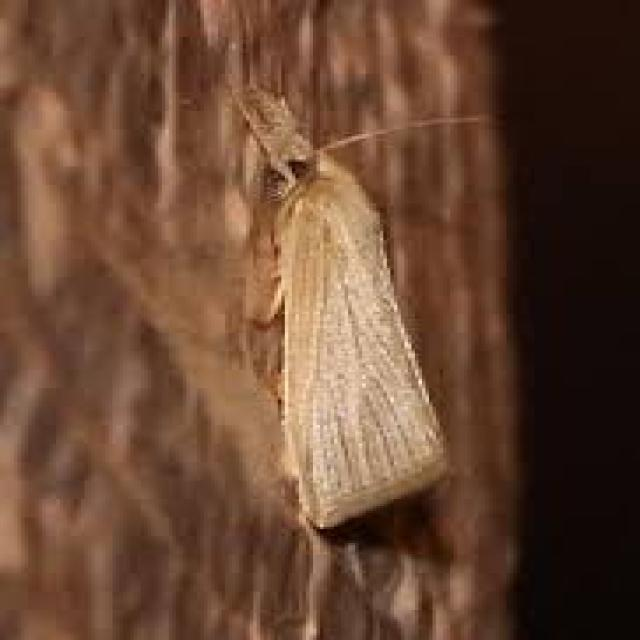yellow-stem-borer: (204, 81, 483, 545)
